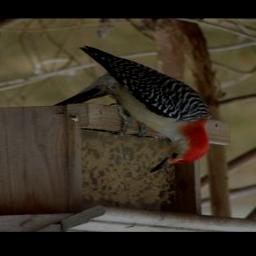Woodpecker: (64, 50, 217, 174)
